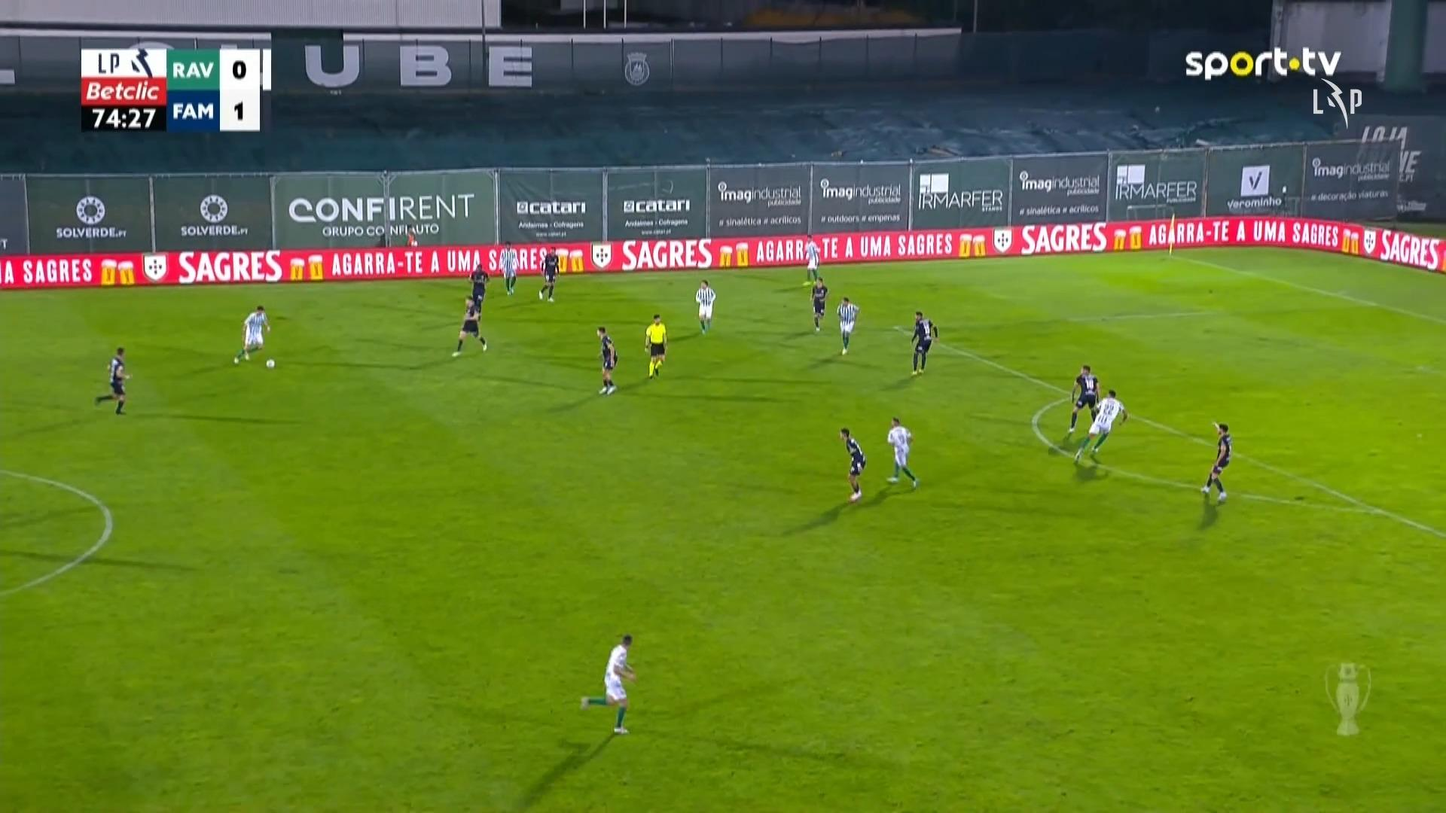ball: (265, 358, 274, 368)
player: (579, 633, 636, 734), (1072, 388, 1127, 465), (1200, 421, 1232, 503), (885, 416, 918, 489), (1066, 364, 1100, 434), (451, 294, 487, 357), (233, 304, 270, 364), (839, 426, 866, 501), (909, 310, 938, 375), (595, 325, 618, 395), (108, 346, 130, 414), (835, 296, 859, 355), (468, 261, 490, 318), (694, 279, 715, 335), (538, 247, 559, 303), (809, 276, 828, 332), (499, 240, 517, 295), (802, 234, 819, 285)
referee: (643, 313, 667, 378)
